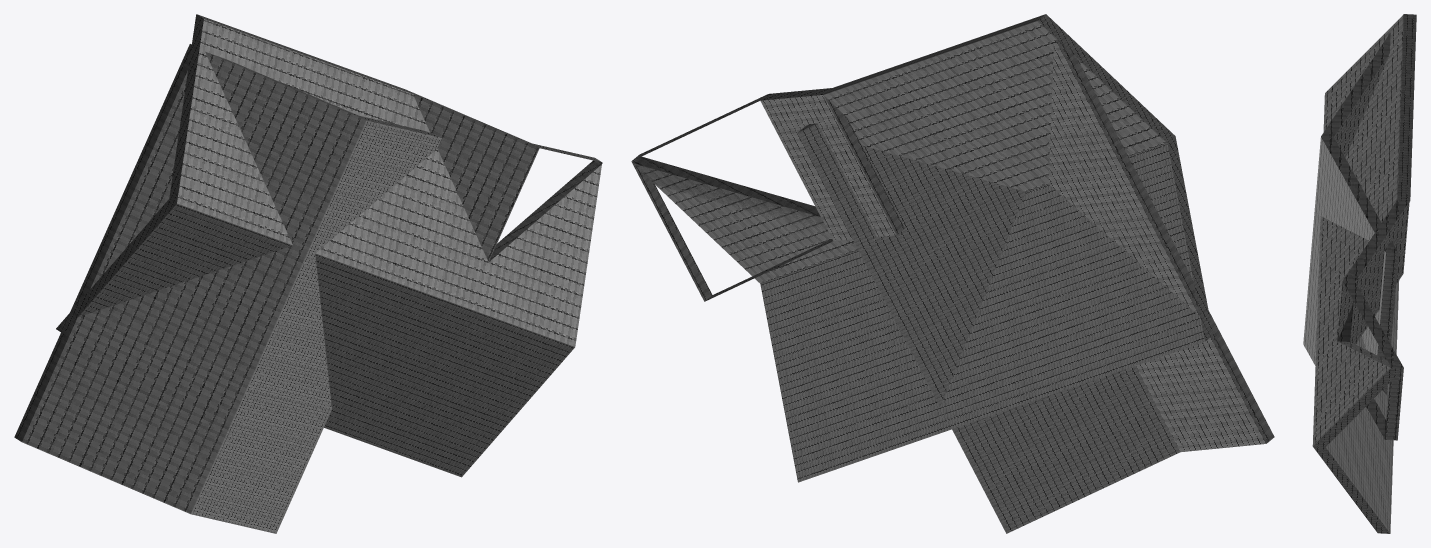
3 views of the same model, side by side, from view 1: azimuth 30°, elevation 25°; view 2: azimuth 150°, elevation 25°; view 3: azimuth 270°, elevation 25° (orthographic). The views are drawn at different scales.
Size of the model in its own units: 14141 by 11745 by 2833.
2 materials, 2 textured.
